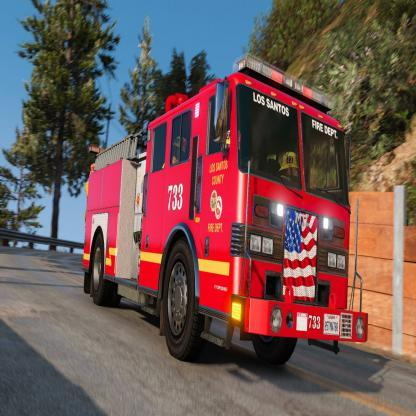fire-truck: (69, 53, 374, 384)
